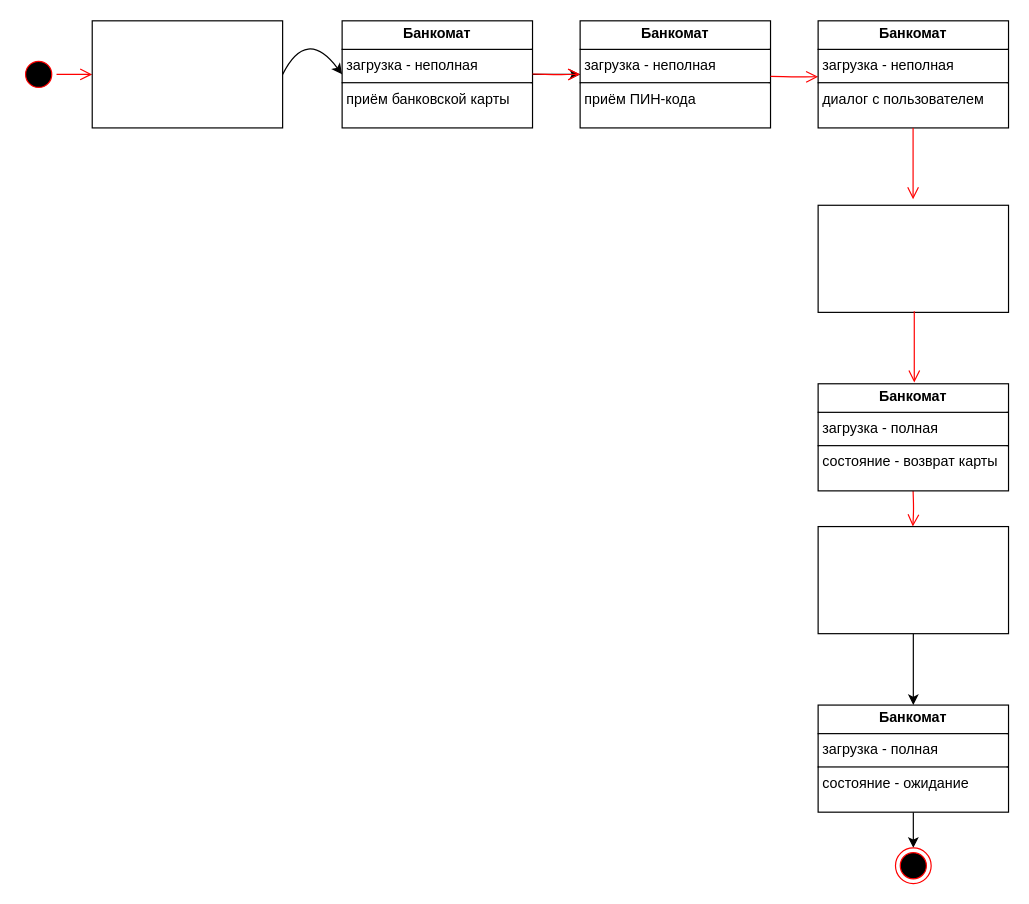
Some shapes in this 1029 by 904 pixel diagram are drawn without their labels. Each missing label, with the box of its shape:
Банкомат загрузка - неполная загрузка денег: (817, 204, 1009, 312)
Банкомат загрузка - неполная состояние - ожидание: (91, 20, 283, 128)
Банкомат загрузка - полная состояние - печать чека: (817, 525, 1009, 634)
